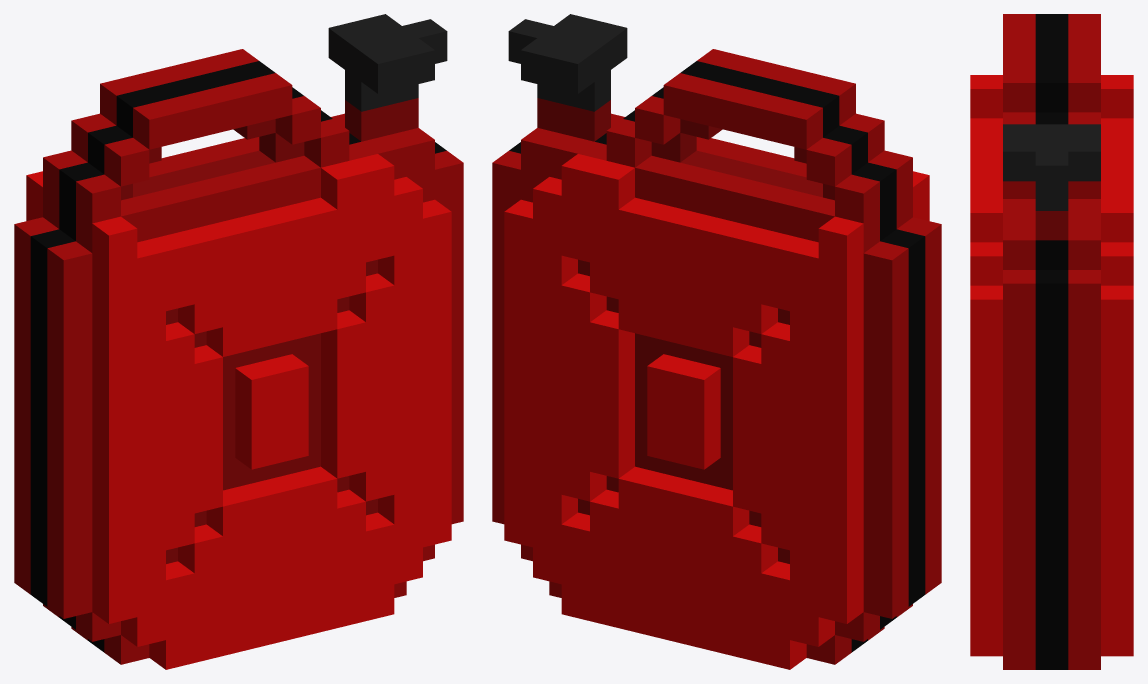
The model's file is Fuel.obj.
3 renders of one model, left to right at view 1: azimuth 30°, elevation 25°; view 2: azimuth 150°, elevation 25°; view 3: azimuth 270°, elevation 25°, orthographic.
Size of the model in its own units: 1.4 by 1.8 by 0.5.
Materials: 1 (1 with a texture image).
